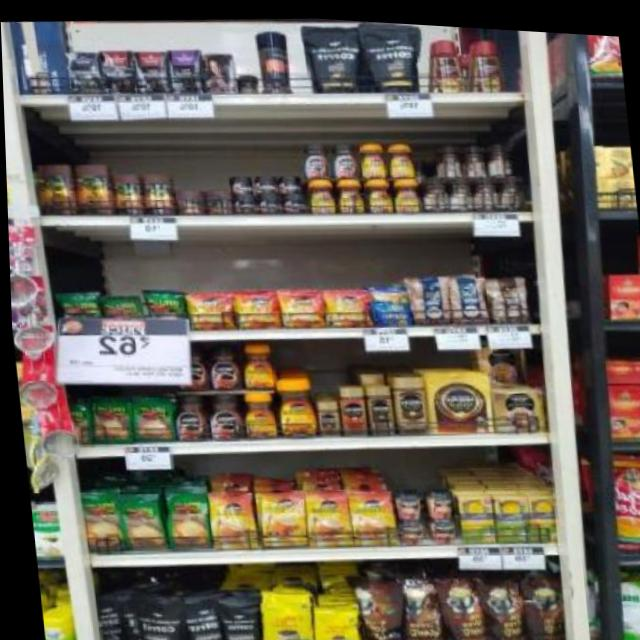Coffee: (255, 486, 305, 546), (270, 375, 316, 437), (205, 491, 252, 549), (345, 486, 392, 542), (301, 487, 346, 542), (389, 368, 426, 430), (168, 390, 207, 440), (277, 285, 324, 326), (202, 388, 240, 438), (187, 288, 232, 328), (322, 286, 368, 325), (202, 339, 238, 388), (239, 388, 274, 438), (362, 379, 393, 434), (233, 286, 276, 325), (239, 339, 275, 385), (300, 136, 329, 176), (327, 137, 358, 174), (390, 171, 420, 209), (362, 173, 392, 210), (386, 135, 415, 173), (356, 137, 386, 173), (306, 176, 335, 211), (335, 173, 362, 209), (311, 396, 336, 434), (254, 188, 280, 211), (281, 189, 307, 212), (252, 168, 275, 190), (277, 168, 300, 190), (233, 191, 254, 212), (227, 171, 250, 189)
